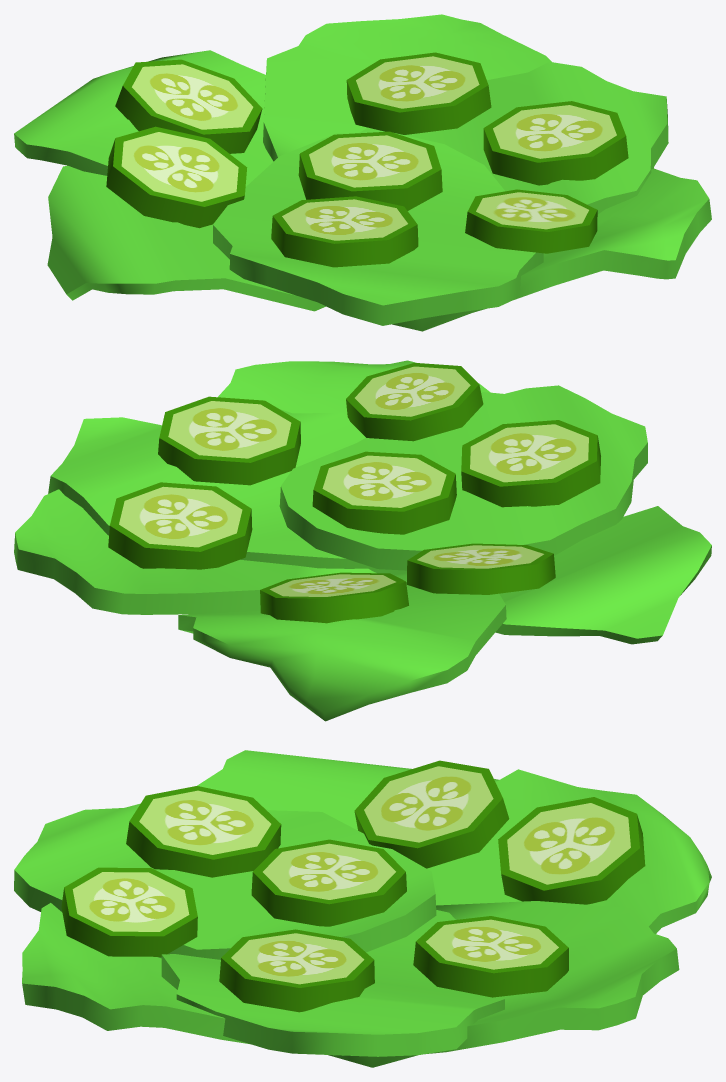
Rendered from SM_Lettuce-Cucumber_Plate.fbx.
3 renders of one model, top to bottom at view 1: azimuth 30°, elevation 25°; view 2: azimuth 150°, elevation 25°; view 3: azimuth 270°, elevation 25°, orthographic. The views are drawn at different scales.
Parts seen in each view (by area): view 1: Lettuce_Cucumber_Plate; view 2: Lettuce_Cucumber_Plate; view 3: Lettuce_Cucumber_Plate.
Boxes of the visible parts, left/top/right/bottom form: Lettuce_Cucumber_Plate: left=14, top=14, right=711, bottom=331; Lettuce_Cucumber_Plate: left=14, top=360, right=711, bottom=721; Lettuce_Cucumber_Plate: left=14, top=750, right=711, bottom=1067.
Bounding box in the file's own units: 156 × 31.77 × 153.
